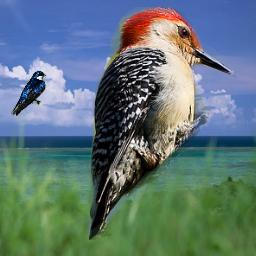Swallow: (11, 71, 46, 116)
Woodpecker: (89, 7, 239, 240)
